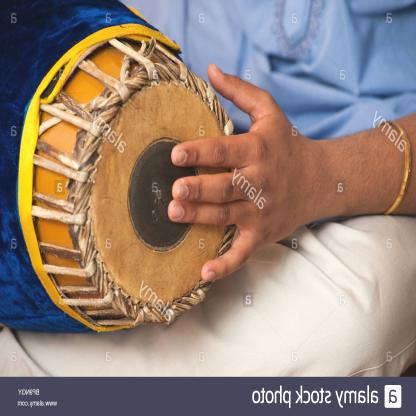Mridangam: (2, 3, 255, 371)
